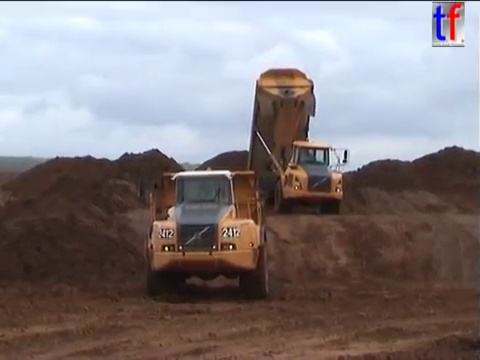truck: (136, 166, 278, 301), (244, 66, 351, 216)
